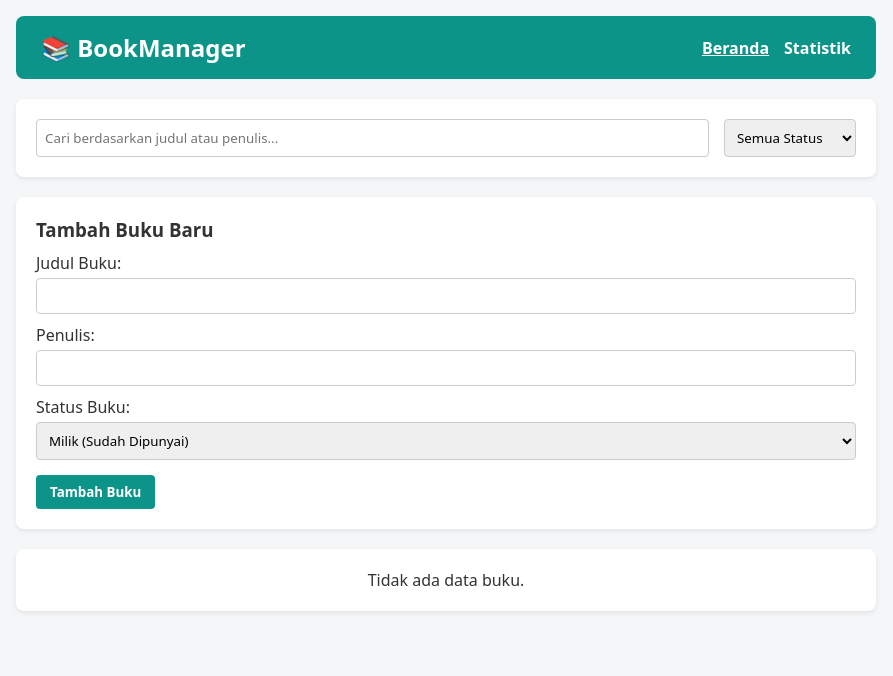
Test case: Aplikasi Manajemen Buku - Integration Testing › 2. Menampilkan pesan error validasi jika input form kosong saat disubmit
Click the button "Tambah Buku" at (96, 492), box [36,475,155,509]
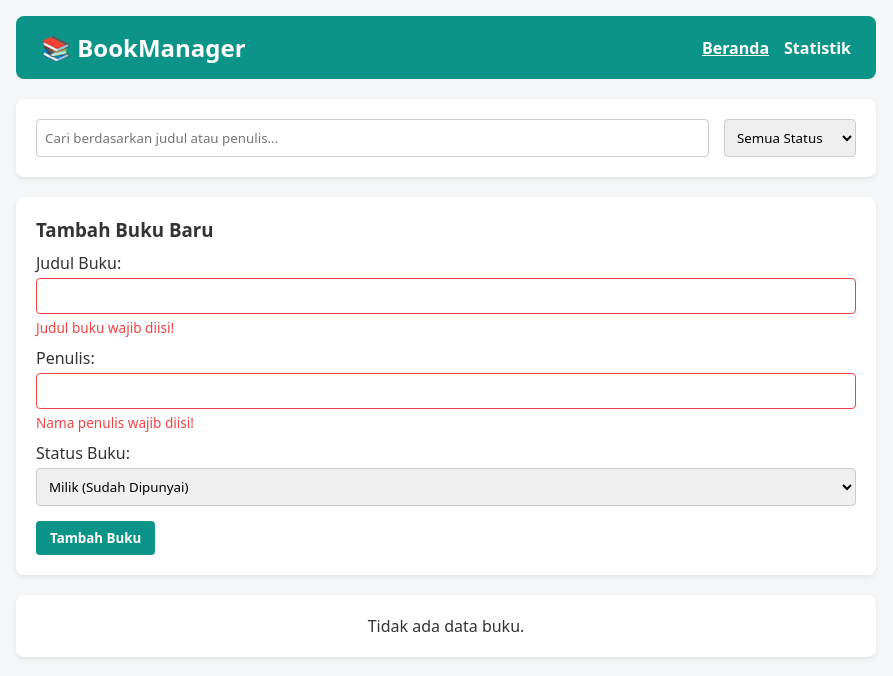
Check: the text "Judul buku wajib diisi!" is shown, box [36,318,174,337]
Check: the text "Nama penulis wajib diisi!" is shown, box [36,413,194,432]
